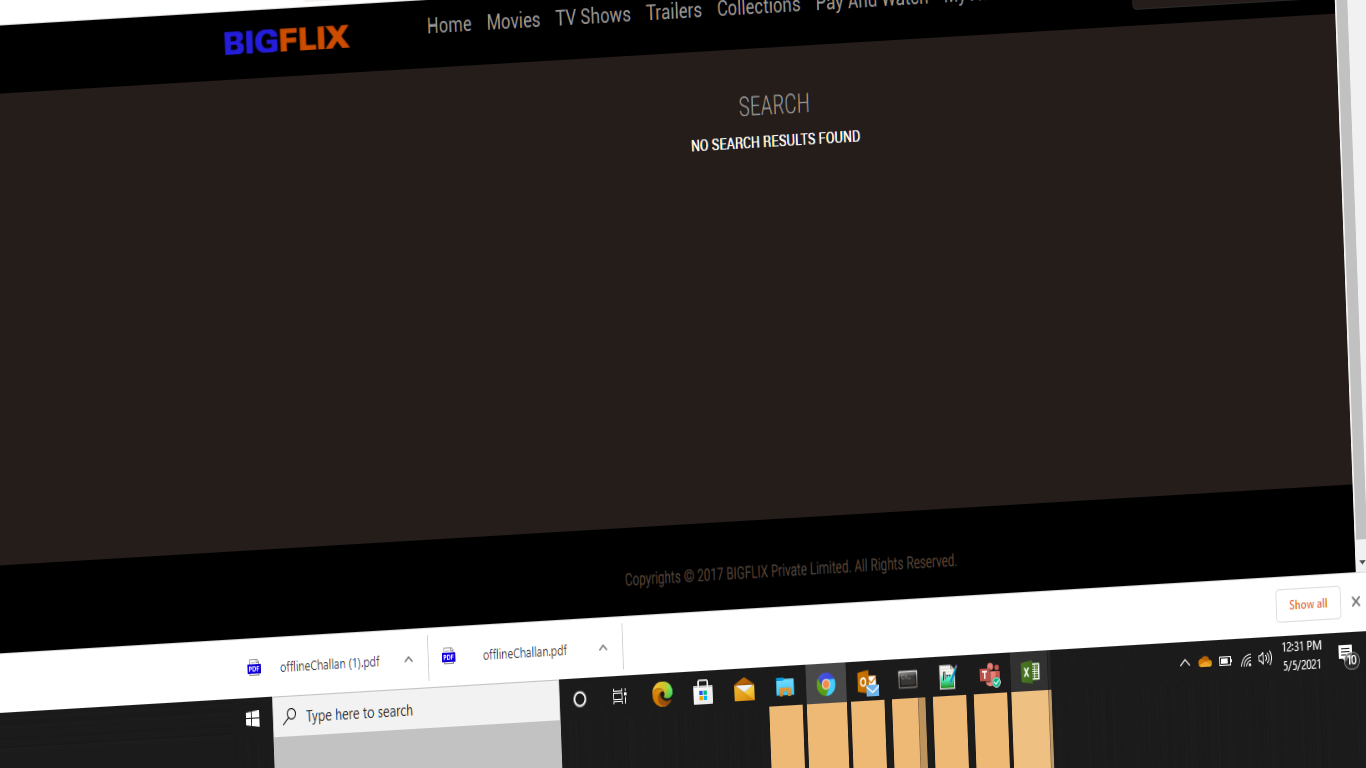noresultsfound: (651, 57, 885, 181)
